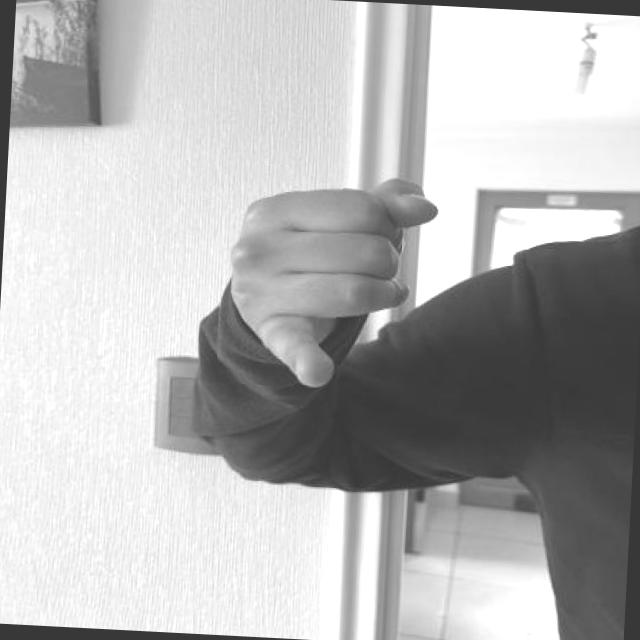Z: (215, 163, 446, 394)
